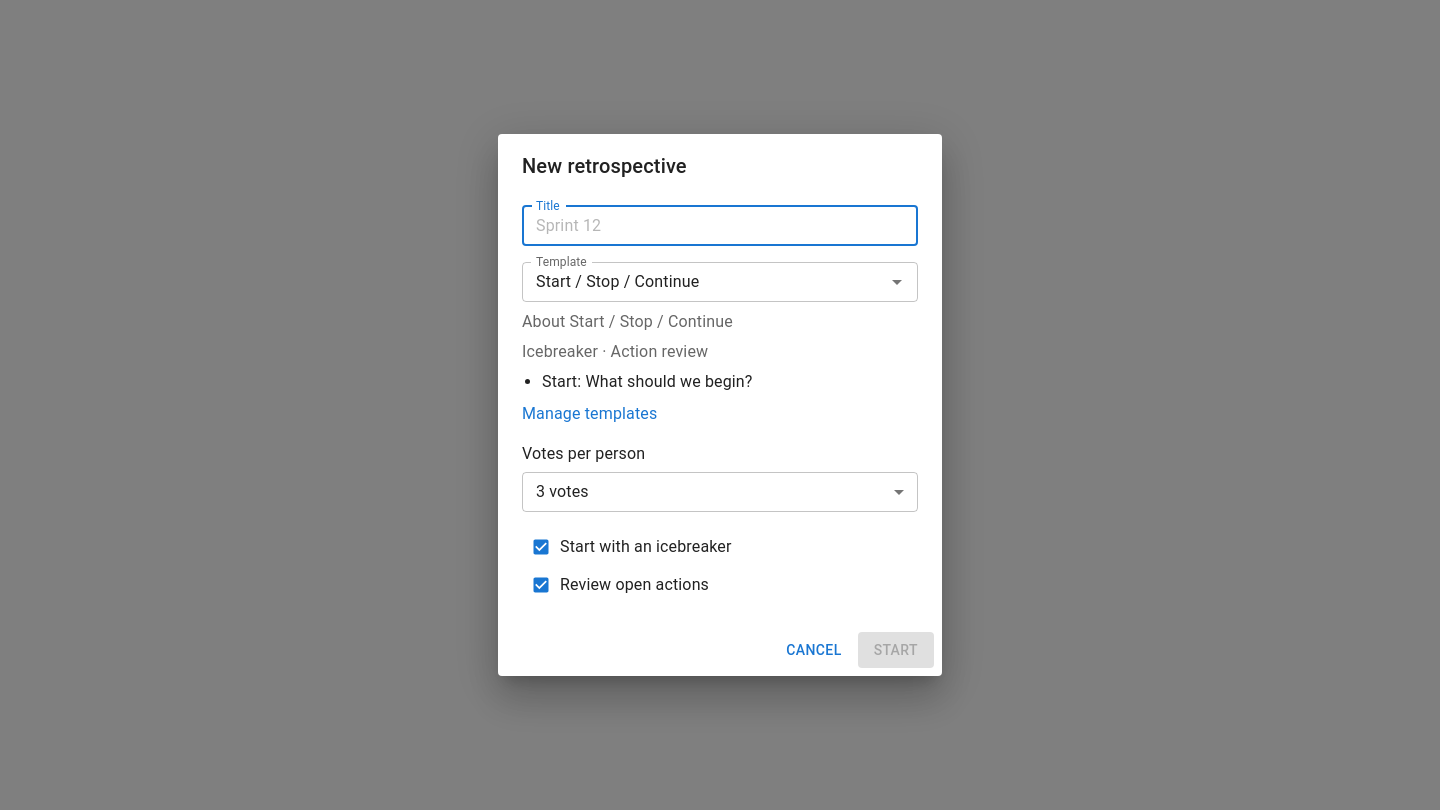
Scenario: NewRetroDialog › lists the steps that are on in the preview
Expected: the text "Icebreaker · Action review" is shown, [522,342,708,361]
Click the checkbox labelled "Start with an icebreaker" at (631, 547), box [531,537,732,557]
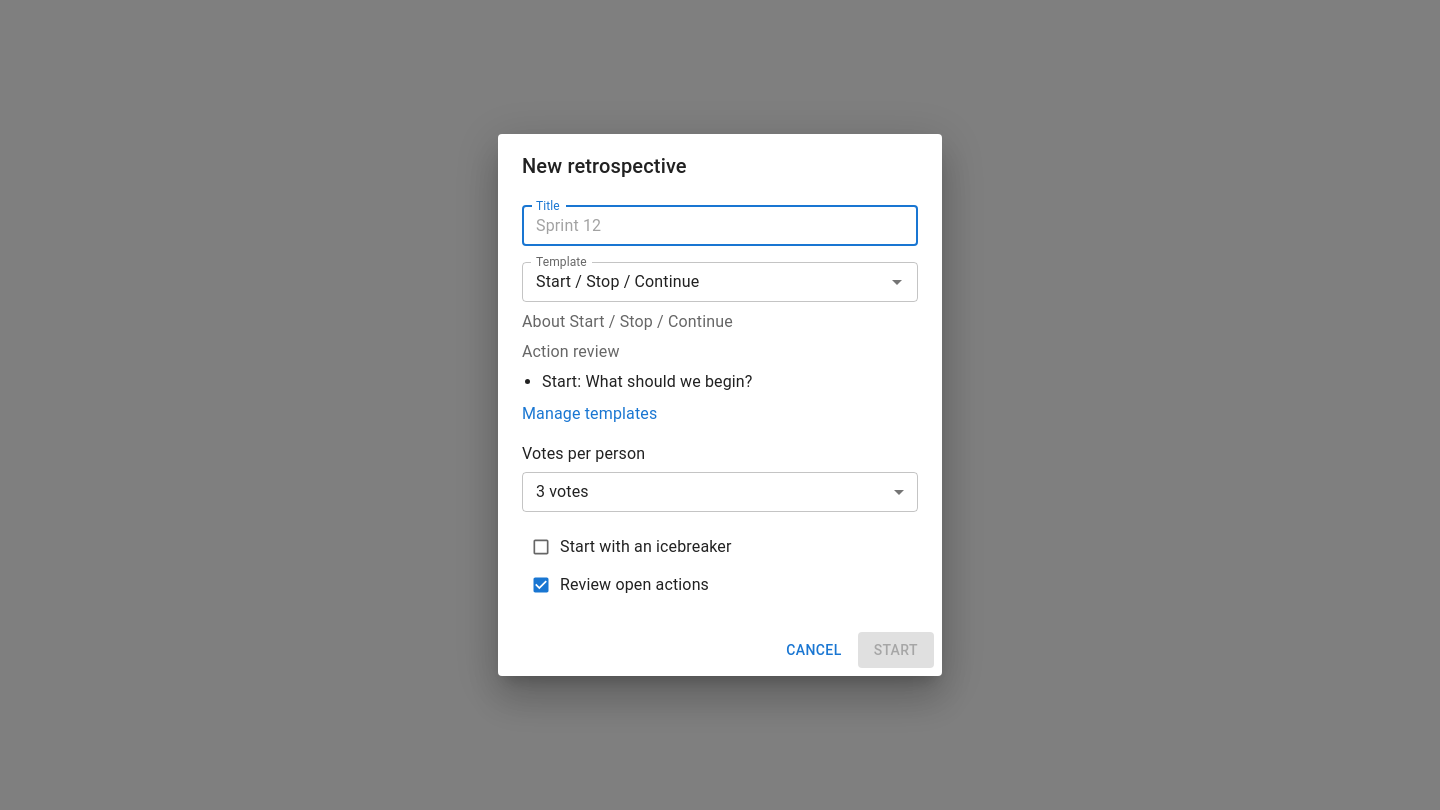
Expected: the text "Action review" is shown, [522,342,620,361]
Click the checkbox labelled "Review open actions" at (620, 585), box [531,575,709,595]
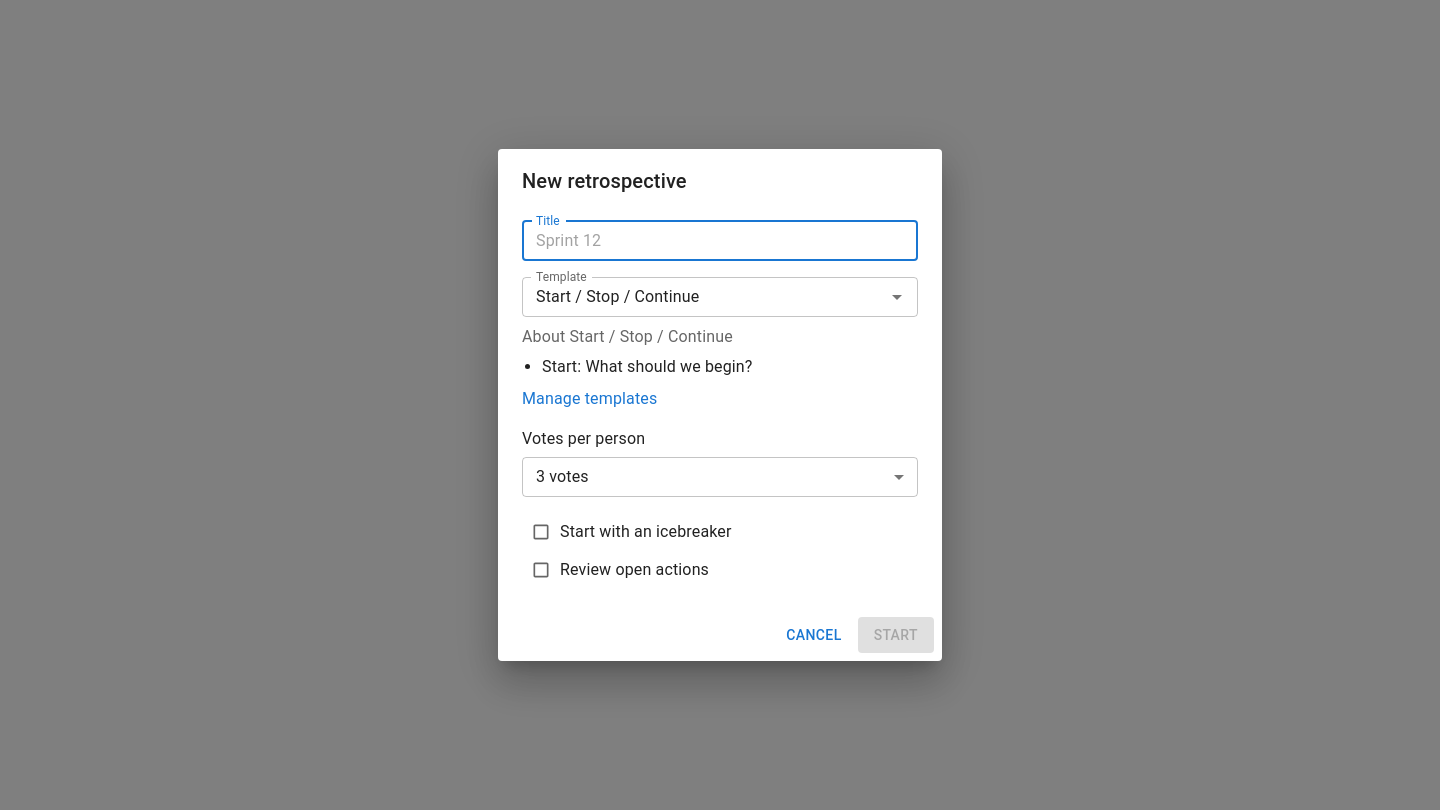
Expected: the text "Action review" is gone
